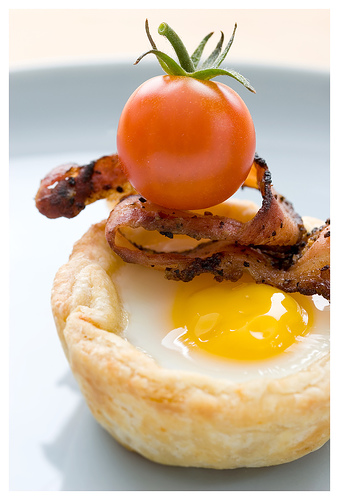egg: (110, 263, 327, 386)
